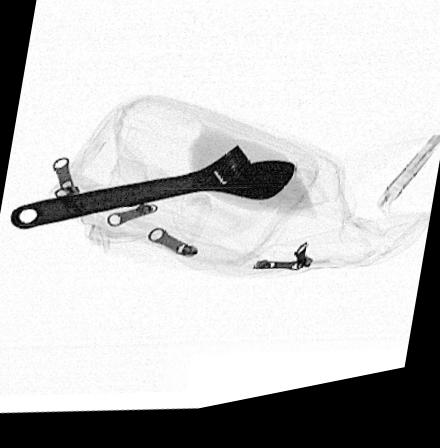Wrench: (8, 154, 294, 230)
